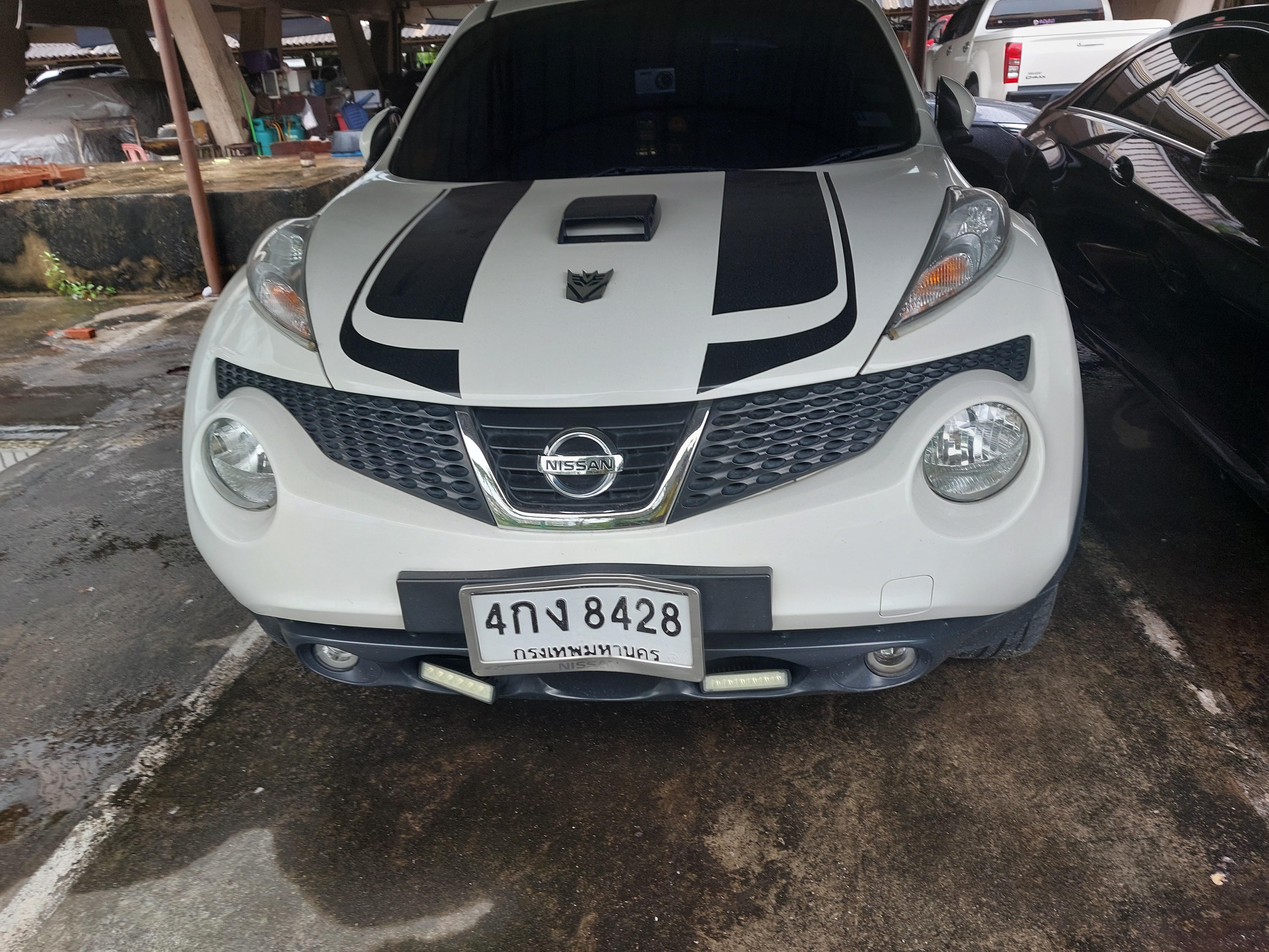license-plate: (460, 575, 707, 680)
